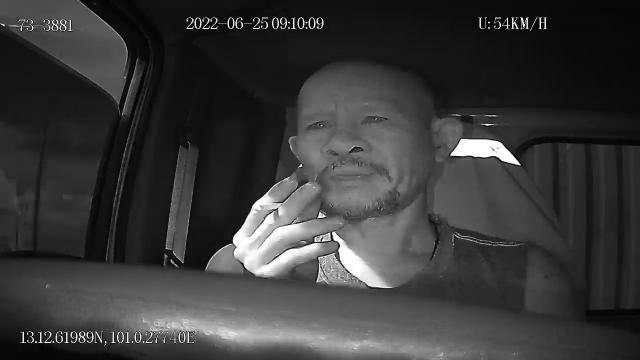SafeDriving: (298, 109, 338, 140), (354, 105, 397, 133)
Smoking: (253, 203, 283, 211)
